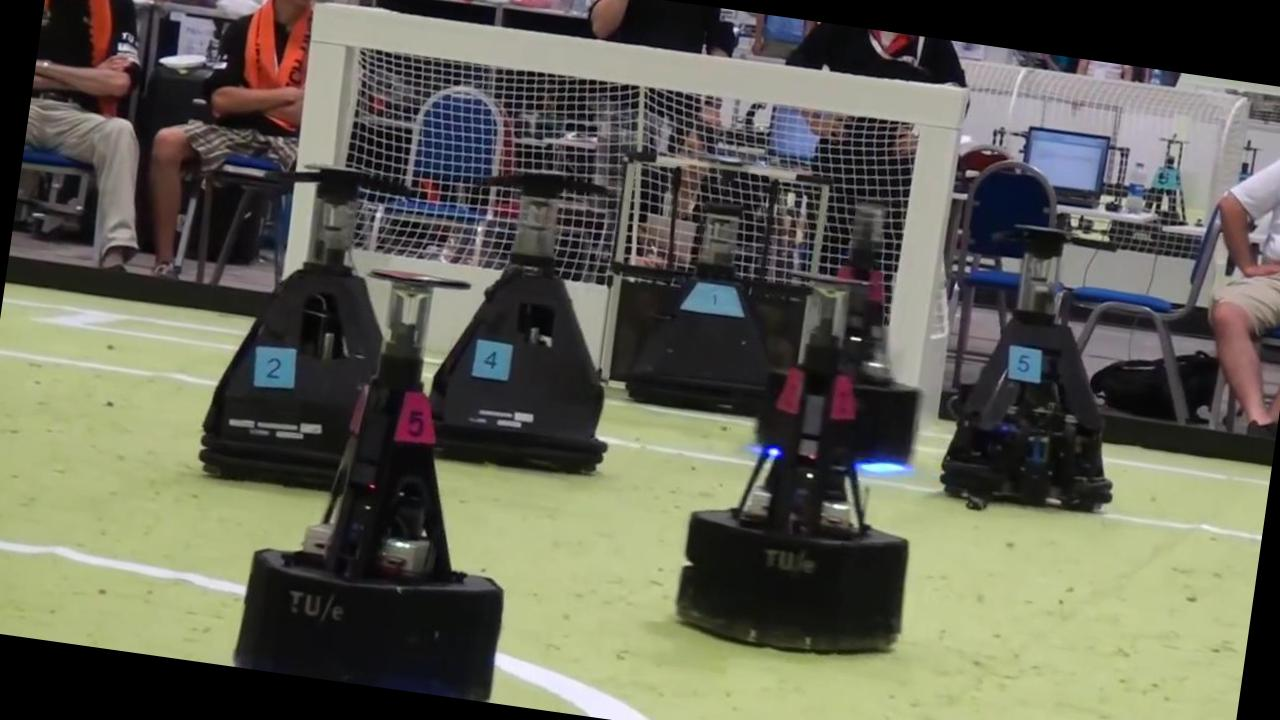robot: (234, 273, 504, 700), (676, 286, 909, 651), (604, 146, 829, 415), (200, 167, 383, 488), (430, 173, 605, 472), (939, 224, 1112, 512), (838, 200, 920, 462)
